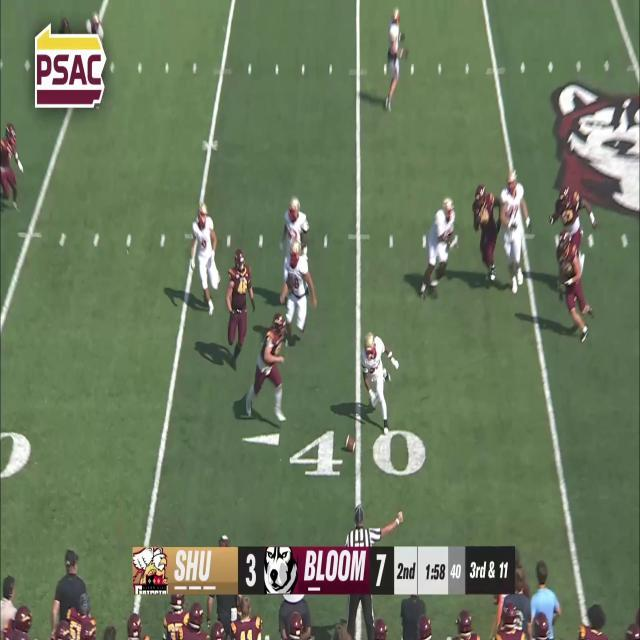football: (344, 436, 357, 454)
